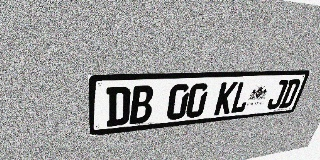0: (166, 84, 191, 120), (185, 83, 210, 118)
B: (129, 85, 154, 124)
D: (106, 86, 131, 127), (278, 79, 302, 108)
J: (265, 79, 289, 110)
K: (214, 82, 238, 115)
L: (229, 81, 254, 114)
